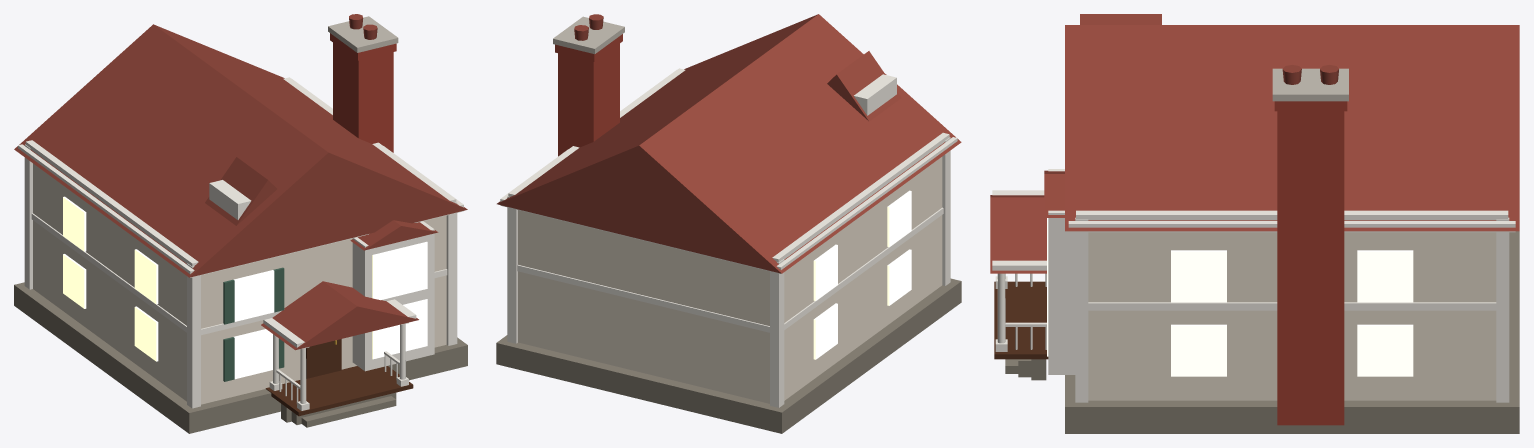
Rendered from mega_family_house.glb.
The picture shows the model from 3 angles, left to right: view 1: azimuth 30°, elevation 25°; view 2: azimuth 150°, elevation 25°; view 3: azimuth 270°, elevation 25°; orthographic projection. The views are drawn at different scales.
Parts seen in each view (by area): view 1: mega_family_house; view 2: mega_family_house; view 3: mega_family_house.
Boxes of the visible parts, x1,y1,x2,y2 form: mega_family_house: [14, 14, 467, 433]; mega_family_house: [496, 14, 961, 433]; mega_family_house: [990, 14, 1519, 433].
Bounding box in the file's own units: 11.62 × 10.62 × 14.2.
